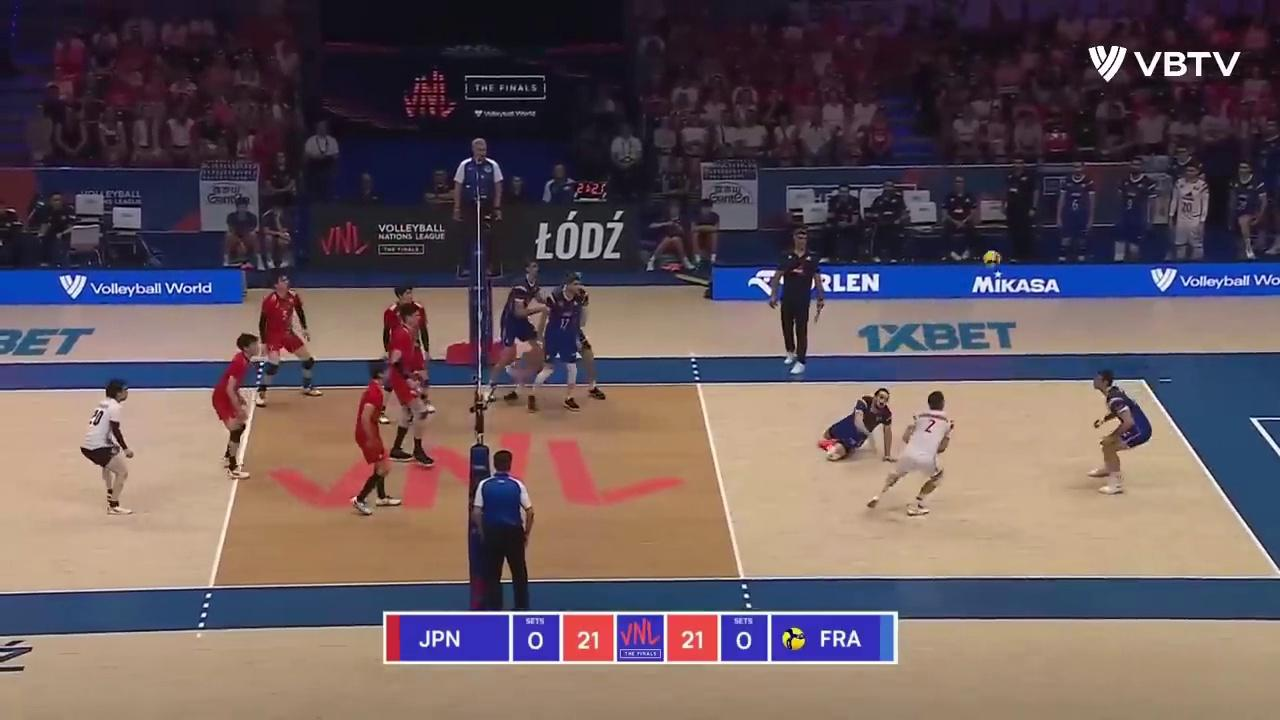ball: (984, 249, 1002, 267)
